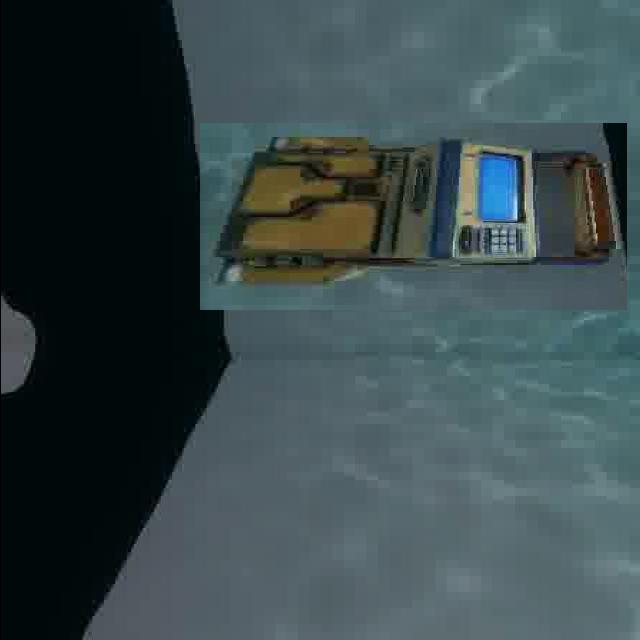Control Panel: (198, 123, 626, 311)
